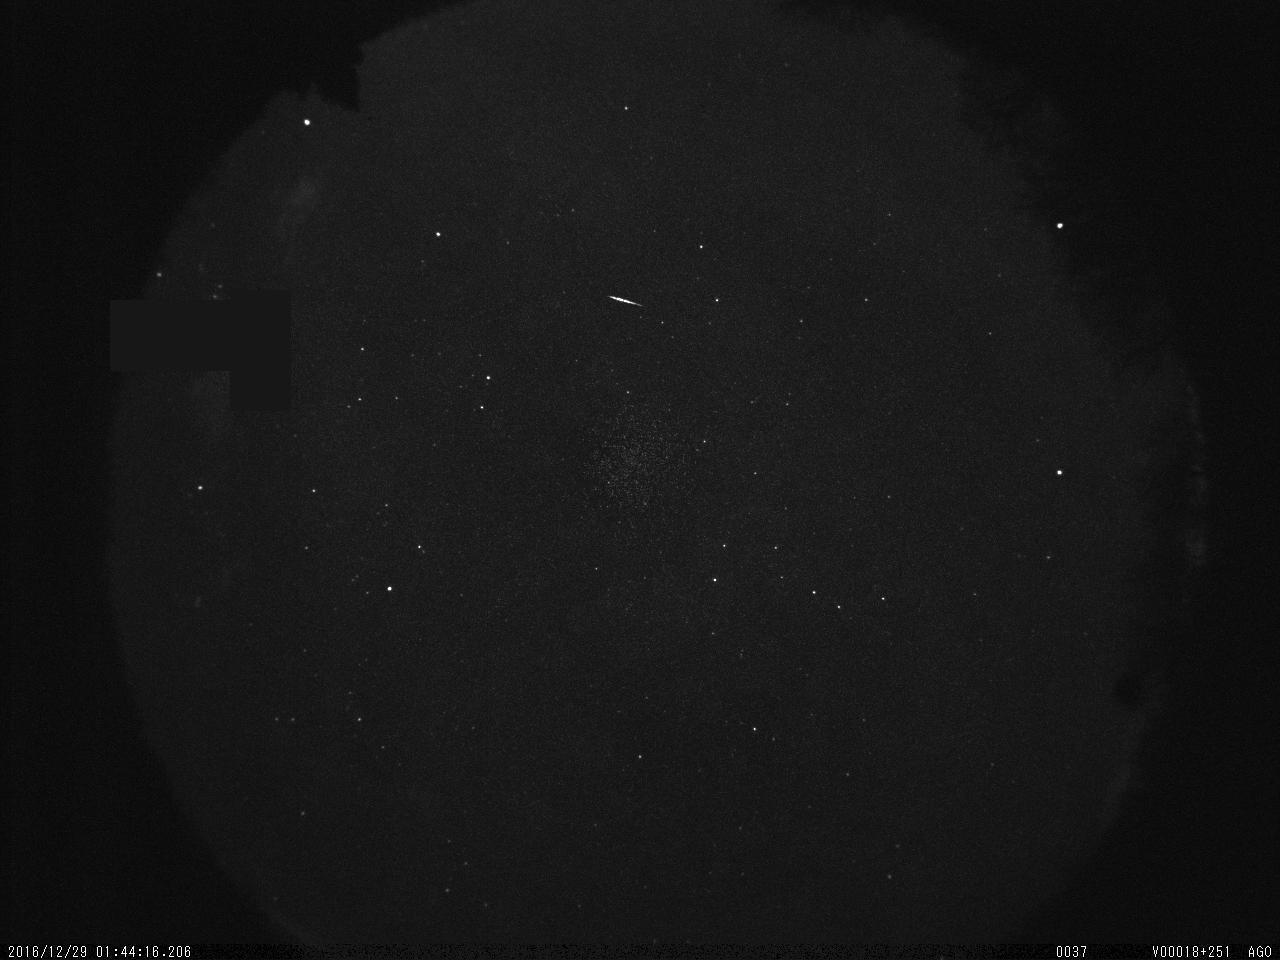meteor: (590, 281, 648, 316)
